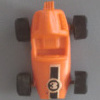carro: (17, 2, 87, 100)
